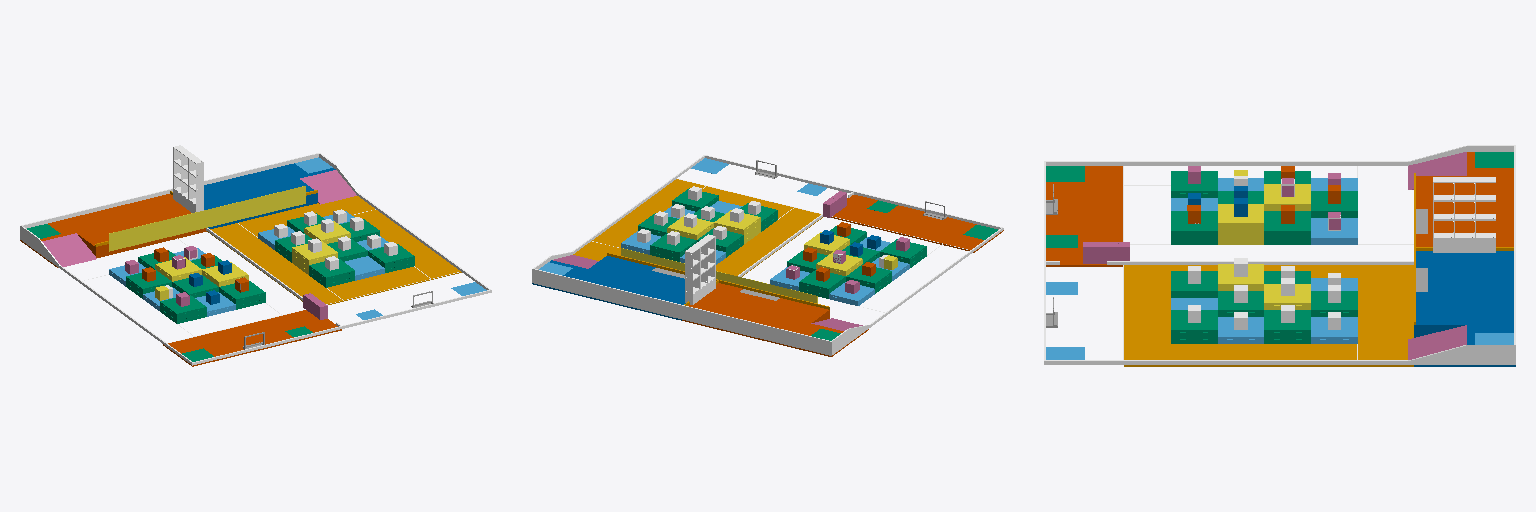
--- What the picture shows (computed from the rendered views, not written in the file) ---
The picture shows the robot from 3 angles, left to right: view 1: azimuth 30°, elevation 25°; view 2: azimuth 150°, elevation 25°; view 3: azimuth 270°, elevation 25°; orthographic projection.
Model zwei with 36 links and 35 joints (35 fixed), rooted at base_link, posed all joints at 0.
Links seen in each view (by area): view 1: Link16, Link18, Link2, Link5, Link11, Link13, Link4, Link3, Link6, Link1, Link23, Link9 (+3 smaller); view 2: Link18, Link2, Link16, Link5, Link13, Link4, Link3, Link1, Link23, Link11, Link9, Link10 (+4 smaller); view 3: Link16, Link2, Link18, Link4, Link13, Link1, Link5, Link3, Link23, Link6, Link10, Link9 (+5 smaller).
Link boxes in pixels (x1,y1,x2,y2): Link16: [207, 196, 461, 304]; Link18: [20, 145, 491, 365]; Link2: [126, 213, 414, 323]; Link5: [20, 194, 206, 267]; Link11: [109, 186, 305, 251]; Link13: [163, 310, 341, 366]; Link4: [204, 163, 335, 228]; Link3: [155, 221, 350, 286]; Link6: [42, 170, 356, 266]; Link1: [109, 211, 388, 316]; Link23: [274, 209, 397, 270]; Link9: [295, 157, 486, 319]; Link18: [532, 155, 1003, 355]; Link2: [638, 188, 926, 298]; Link16: [573, 179, 822, 276]; Link5: [682, 283, 868, 356]; Link13: [831, 195, 1003, 252]; Link4: [532, 256, 685, 320]; Link3: [667, 210, 862, 275]; Link1: [621, 201, 909, 305]; Link23: [637, 186, 760, 245]; Link11: [621, 248, 817, 303]; Link9: [539, 158, 826, 275]; Link10: [811, 200, 997, 340]; Link16: [1124, 265, 1413, 366]; Link2: [1171, 171, 1357, 343]; Link18: [1044, 145, 1515, 364]; Link4: [1414, 251, 1515, 366]; Link13: [1046, 166, 1122, 266]; Link1: [1171, 178, 1357, 343]; Link5: [1416, 152, 1513, 246]; Link3: [1218, 184, 1310, 309]; Link23: [1188, 258, 1340, 329]; Link6: [1408, 152, 1466, 359]; Link10: [1046, 152, 1513, 247]; Link9: [1046, 282, 1513, 359].
Bounding box of the posed robot: 12.15 × 12.1 × 2.47 m (x, y, z).
Meshes: 35 distinct files referenced, 31 mesh visuals loaded (27 binary STL, 4 Collada DAE); not drawn: 4 (reference not matched to a file when rendering).

The robot description file, URDF, robot "zwei":
<?xml version="1.0" encoding="utf-8"?>
<!-- This URDF was automatically created by SolidWorks to URDF Exporter! Originally created by Stephen Brawner ([email redacted]) 
     Commit Version: 1.6.0-1-g15f4949  Build Version: 1.6.7594.29634
     For more information, please see http://wiki.ros.org/sw_urdf_exporter -->
<robot
  name="zwei">
  <link
    name="base_link">
    <inertial>
      <origin
        xyz="6.025 7.59901863606395 0.159497471230316"
        rpy="0 0 0" />
      <mass
        value="32830.9811175371" />
      <inertia
        ixx="41297.6713371606"
        ixy="-2.50785933512626E-11"
        ixz="-7.99909194612046E-13"
        iyy="65334.3271755097"
        iyz="-266.198195272754"
        izz="105720.894307686" />
    </inertial>
    <visual>
      <origin
        xyz="0 0 0"
        rpy="0 0 0" />
      <!--<geometry>
        <mesh
          filename="package://zwei/meshes/base_link.STL" />
      </geometry>-->
      <!--<material
        name="">
        <color
          rgba="0.752941176470588 0.752941176470588 0.752941176470588 1" />
      </material>-->
    </visual>
    <collision>
      <origin
        xyz="0 0 0"
        rpy="0 0 0" />
      <!--<geometry>
        <mesh
          filename="package://zwei/meshes/base_link.STL" />
      </geometry>-->
    </collision>
  </link>
  <link
    name="Link1">
    <inertial>
      <origin
        xyz="3.025 0.0899299276190646 2.1"
        rpy="0 0 0" />
      <mass
        value="2300.00896" />
      <inertia
        ixx="283.290308175557"
        ixy="6.85401140947789E-15"
        ixz="1.6649606738741E-14"
        iyy="551.233941162667"
        iyz="3.39786615074972E-15"
        izz="283.290308175557" />
    </inertial>
    <visual>
      <origin
        xyz="0 0 0"
        rpy="0 0 0" />
      <geometry>
        <mesh
          filename="package://zwei/meshes/Link1.STL" />
      </geometry>
      <!--<material
        name="link1">
        <color
          rgba="0.16078431372549 0.32156862745098 0.0627450980392157 1" /> 
      </material>-->
    </visual>
    <collision>
      <origin
        xyz="0 0 0"
        rpy="0 0 0" />
      <geometry>
        <mesh
          filename="package://zwei/meshes/Link1.STL" />
      </geometry>
    </collision>
  </link>
  <joint
    name="ink1"
    type="fixed">
    <origin
      xyz="9.05 3.8 0.00980000000000023"
      rpy="1.5707963267949 0 3.14159265358979" />
    <parent
      link="base_link" />
    <child
      link="Link1" />
    <axis
      xyz="0 0 0" />
  </joint>
  <link
    name="Link2">
    <inertial>
      <origin
        xyz="4.225 0.189929927619065 1.6"
        rpy="0 0 0" />
      <mass
        value="6900.02688" />
      <inertia
        ixx="918.871193326671"
        ixy="-1.58382749771503E-14"
        ixz="-8.56900881089812E-15"
        iyy="1653.701823488"
        iyz="-3.38855738196597E-14"
        izz="918.87119332667" />
    </inertial>
    <visual>
      <origin
        xyz="0 0 0"
        rpy="0 0 0" />
      <geometry>
        <mesh
          filename="package://zwei/meshes/Link2.STL" />
      </geometry>
      <!--<material
        name="">
        <color
          rgba="0.164705882352941 0.443137254901961 0.219607843137255 1" />
      </material>-->
    </visual>
    <collision>
      <origin
        xyz="0 0 0"
        rpy="0 0 0" />
      <geometry>
        <mesh
          filename="package://zwei/meshes/Link2.STL" />
      </geometry>
    </collision>
  </link>
  <joint
    name="ink2"
    type="fixed">
    <origin
      xyz="10.25 3.8 0.00980000000000023"
      rpy="1.5707963267949 0 3.14159265358979" />
    <parent
      link="base_link" />
    <child
      link="Link2" />
    <axis
      xyz="0 0 0" />
  </joint>
  <link
    name="Link3">
    <inertial>
      <origin
        xyz="1.825 0.289929927619065 0.6"
        rpy="0 0 0" />
      <mass
        value="3450.01344" />
      <inertia
        ixx="516.935820663336"
        ixy="1.79481572017276E-15"
        ixz="4.28090451542323E-14"
        iyy="826.850911744001"
        iyz="-1.97300854240976E-14"
        izz="516.935820663336" />
    </inertial>
    <visual>
      <origin
        xyz="0 0 0"
        rpy="0 0 0" />
      <geometry>
        <mesh
          filename="package://zwei/meshes/Link3.STL" />
      </geometry>
      <!--<material
        name="">
        <color
          rgba="0.596078431372549 0.650980392156863 0.313725490196078 1" />
      </material>-->
    </visual>
    <collision>
      <origin
        xyz="0 0 0"
        rpy="0 0 0" />
      <geometry>
        <mesh
          filename="package://zwei/meshes/Link3.STL" />
      </geometry>
    </collision>
  </link>
  <joint
    name="ink3"
    type="fixed">
    <origin
      xyz="7.85 5 0.00980000000000031"
      rpy="1.5707963267949 0 3.14159265358979" />
    <parent
      link="base_link" />
    <child
      link="Link3" />
    <axis
      xyz="0 0 0" />
  </joint>
  
  <link
    name="Link4">
    <inertial>
      <origin
        xyz="-2.71653146810334 0.210989959593486 0.0575670380800792"
        rpy="0 0 0" />
      <mass
        value="6125.25" />
      <inertia
        ixx="3425.2331149175"
        ixy="-57.0341020647116"
        ixz="1249.75282895341"
        iyy="19504.160145407"
        iyz="-10.2293028728419"
        izz="16291.1884747545" />
    </inertial>
    <visual>
      <origin
        xyz="0 0 0"
        rpy="0 0 0" />
      <geometry>
        <mesh
          filename="package://zwei/meshes/Link4.STL" />
      </geometry>
      <!--<material
        name="">
        <color
          rgba="0.996078431372549 0.729411764705882 0.63921568627451 1" />
      </material>-->
    </visual>
    <collision>
      <origin
        xyz="0 0 0"
        rpy="0 0 0" />
      <geometry>
        <mesh
          filename="package://zwei/meshes/Link4.STL" />
      </geometry>
    </collision>
  </link>
  <joint
    name="ink4"
    type="fixed">
    <origin
      xyz="6.025 10.75 -0.0401999999999993"
      rpy="1.5707963267949 0 3.14159265358979" />
    <parent
      link="base_link" />
    <child
      link="Link4" />
    <axis
      xyz="0 0 0" />
  </joint>
  
  <link
    name="Link5">
    <inertial>
      <origin
        xyz="2.71653146810334 0.210989959593486 0.0575670380800783"
        rpy="0 0 0" />
      <mass
        value="6125.25" />
      <inertia
        ixx="3425.2331149175"
        ixy="57.0341020647116"
        ixz="-1249.75282895341"
        iyy="19504.160145407"
        iyz="-10.2293028728418"
        izz="16291.1884747545" />
    </inertial>
    <visual>
      <origin
        xyz="0 0 0"
        rpy="0 0 0" />
      <geometry>
        <mesh
          filename="package://zwei/meshes/Link5.STL" />
      </geometry>
      <!--<material
        name="">
        <color
          rgba="0.505882352941176 0.823529411764706 0.83921568627451 1" />
      </material>-->
    </visual>
    <collision>
      <origin
        xyz="0 0 0"
        rpy="0 0 0" />
      <geometry>
        <mesh
          filename="package://zwei/meshes/Link5.STL" />
      </geometry>
    </collision>
  </link>
  <joint
    name="ink5"
    type="fixed">
    <origin
      xyz="6.025 10.75 -0.0401999999999993"
      rpy="1.5707963267949 0 3.14159265358979" />
    <parent
      link="base_link" />
    <child
      link="Link5" />
    <axis
      xyz="0 0 0" />
  </joint>
  <link
    name="Link6">
    <inertial>
      <origin
        xyz="-4.525 0.123333333333334 -1"
        rpy="0 0 0" />
      <mass
        value="900" />
      <inertia
        ixx="120.5"
        ixy="-3.21502084214368E-14"
        ixz="-5.20417042793042E-15"
        iyy="281.25"
        iyz="15"
        izz="176.75" />
    </inertial>
    <visual>
      <origin
        xyz="0 0 0"
        rpy="0 0 0" />
      <geometry>
        <mesh
          filename="package://zwei/meshes/Link6.STL" />
      </geometry>
      <!--<material
        name="">
        <color
          rgba="0.752941176470588 0.741176470588235 0.713725490196078 1" />
      </material>-->
    </visual>
    <collision>
      <origin
        xyz="0 0 0"
        rpy="0 0 0" />
      <geometry>
        <mesh
          filename="package://zwei/meshes/Link6.STL" />
      </geometry>
    </collision>
  </link>
  <joint
    name="ink6"
    type="fixed">
    <origin
      xyz="10.55 9.3 0.00980000000000057"
      rpy="1.5707963267949 0 0" />
    <parent
      link="base_link" />
    <child
      link="Link6" />
    <axis
      xyz="0 0 0" />
  </joint>
  <link
    name="Link7">
    <inertial>
      <origin
        xyz="-1.775 -0.00990000000000002 8.88178419700125E-16"
        rpy="0 0 0" />
      <mass
        value="0.17999999999998" />
      <inertia
        ixx="0.00135000059999985"
        ixy="-1.37753244236987E-37"
        ixz="7.73252989416785E-19"
        iyy="0.0350999999999961"
        iyz="-8.27180612553027E-23"
        izz="0.0337500005999963" />
    </inertial>
    <visual>
      <origin
        xyz="0 0 0"
        rpy="0 0 0" />
      <geometry>
        <mesh
          filename="package://zwei/meshes/Link7.STL" />
      </geometry>
      <!--<material
        name="">
        <color
          rgba="1 1 0 1" />
      </material>-->
    </visual>
    <collision>
      <origin
        xyz="0 0 0"
        rpy="0 0 0" />
      <geometry>
        <mesh
          filename="package://zwei/meshes/Link7.STL" />
      </geometry>
    </collision>
  </link>
  <joint
    name="ink7"
    type="fixed">
    <origin
      xyz="4.25 9.65 0.409800000000001"
      rpy="1.5707963267949 0 3.14159265358979" />
    <parent
      link="base_link" />
    <child
      link="Link7" />
    <axis
      xyz="0 0 0" />
  </joint>
  <link
    name="Link8">
    <inertial>
      <origin
        xyz="-2.04979445341204E-14 0.0499999999999999 0.137990936555892"
        rpy="0 0 0" />
      <mass
        value="49.6499999999993" />
      <inertia
        ixx="0.247721073498422"
        ixy="4.37682485740497E-15"
        ixz="1.48671816970222E-14"
        iyy="309.047939823494"
        iyz="-3.24120087816394E-17"
        izz="308.882968749995" />
    </inertial>
    <visual>
      <origin
        xyz="0 0 0"
        rpy="0 0 0" />
      <geometry>
        <mesh
          filename="package://zwei/meshes/Link8.STL" />
      </geometry>
      <!--<material
        name="">
        <color
          rgba="0.392156862745098 0.243137254901961 0 1" />
      </material>-->
    </visual>
    <collision>
      <origin
        xyz="0 0 0"
        rpy="0 0 0" />
      <geometry>
        <mesh
          filename="package://zwei/meshes/Link8.STL" />
      </geometry>
    </collision>
  </link>
  <joint
    name="ink8"
    type="fixed">
    <origin
      xyz="6.025 9.45 0.399800000000001"
      rpy="1.5707963267949 0 3.14159265358979" />
    <parent
      link="base_link" />
    <child
      link="Link8" />
    <axis
      xyz="0 0 0" />
  </joint>
  <link
    name="Link9">
    <inertial>
      <origin
        xyz="0.993939393939435 -0.258384848484859 -6.85757575757604"
        rpy="0 0 0" />
      <mass
        value="0.527999999999978" />
      <inertia
        ixx="0.0401600017599982"
        ixy="1.76465197344646E-22"
        ixz="-2.56068314700523E-19"
        iyy="0.0803199999999963"
        iyz="8.82325986723231E-23"
        izz="0.0401600017599982" />
    </inertial>
    <visual>
      <origin
        xyz="0 0 0"
        rpy="0 0 0" />
      <geometry>
        <mesh
          filename="package://zwei/meshes/Link9.STL" />
      </geometry>
      <!--<material
        name="">
        <color
          rgba="0.874509803921569 0.133333333333333 0.133333333333333 1" />
      </material>-->
    </visual>
    <collision>
      <origin
        xyz="0 0 0"
        rpy="0 0 0" />
      <geometry>
        <mesh
          filename="package://zwei/meshes/Link9.STL" />
      </geometry>
    </collision>
  </link>
  <joint
    name="ink9"
    type="fixed">
    <origin
      xyz="11.55 11.5 0.409800000000001"
      rpy="1.5707963267949 0 3.14159265358979" />
    <parent
      link="base_link" />
    <child
      link="Link9" />
    <axis
      xyz="0 0 0" />
  </joint>
  <link
    name="Link10">
    <inertial>
      <origin
        xyz="-0.993939393939436 -0.258384848484859 -6.85757575757605"
        rpy="0 0 0" />
      <mass
        value="0.527999999999978" />
      <inertia
        ixx="0.0401600017599982"
        ixy="8.8232598672323E-23"
        ixz="5.26662047306559E-20"
        iyy="0.0803199999999964"
        iyz="4.59177480789956E-38"
        izz="0.0401600017599982" />
    </inertial>
    <visual>
      <origin
        xyz="0 0 0"
        rpy="0 0 0" />
      <geometry>
        <mesh
          filename="package://zwei/meshes/Link10.STL" />
      </geometry>
      <!--<material
        name="">
        <color
          rgba="0.196078431372549 0 1 1" />
      </material>-->
    </visual>
    <collision>
      <origin
        xyz="0 0 0"
        rpy="0 0 0" />
      <geometry>
        <mesh
          filename="package://zwei/meshes/Link10.STL" />
      </geometry>
    </collision>
  </link>
  <joint
    name="ink10"
    type="fixed">
    <origin
      xyz="0.500000000000001 11.5 0.409800000000001"
      rpy="1.5707963267949 0 3.14159265358979" />
    <parent
      link="base_link" />
    <child
      link="Link10" />
    <axis
      xyz="0 0 0" />
  </joint>
  <link
    name="Link11">
    <inertial>
      <origin
        xyz="1.77635683940025E-15 -0.00999999999999956 0.00499999999999989"
        rpy="0 0 0" />
      <mass
        value="55.9999999999988" />
      <inertia
        ixx="2.28713333333328"
        ixy="0"
        ixz="-3.34223389704858E-17"
        iyy="298.667133333327"
        iyz="1.65955212535108E-18"
        izz="300.953333333327" />
    </inertial>
    <visual>
      <origin
        xyz="0 0 0"
        rpy="0 0 0" />
      <geometry>
        <mesh
          filename="package://zwei/meshes/Link11.STL" />
      </geometry>
      <!--<material
        name="">
        <color
          rgba="1 1 1 0.35" />
      </material>-->
    </visual>
    <collision>
      <origin
        xyz="0 0 0"
        rpy="0 0 0" />
      <geometry>
        <mesh
          filename="package://zwei/meshes/Link11.STL" />
      </geometry>
    </collision>
  </link>
  <joint
    name="ink11"
    type="fixed">
    <origin
      xyz="6.025 9.44 0.4598"
      rpy="1.5707963267949 0 3.14159265358979" />
    <parent
      link="base_link" />
    <child
      link="Link11" />
    <axis
      xyz="0 0 0" />
  </joint>
  <link
    name="Link12">
    <inertial>
      <origin
        xyz="4.44089209850063E-16 0.015 0"
        rpy="0 0 0" />
      <mass
        value="622.6875" />
      <inertia
        ixx="218.200078125"
        ixy="-2.24820162486594E-16"
        ixz="2.67756708009307E-14"
        iyy="2133.12629882812"
        iyz="0"
        izz="1915.18567382812" />
    </inertial>
    <visual>
      <origin
        xyz="0 0 0"
        rpy="0 0 0" />
      <geometry>
        <mesh
          filename="package://zwei/meshes/Link12.STL" />
      </geometry>
      <!--<material
        name="">
        <color
          rgba="0.980392156862745 0.862745098039216 0.854901960784314 1" />
      </material>-->
    </visual>
    <collision>
      <origin
        xyz="0 0 0"
        rpy="0 0 0" />
      <geometry>
        <mesh
          filename="package://zwei/meshes/Link12.STL" />
      </geometry>
    </collision>
  </link>
  <joint
    name="ink12"
    type="fixed">
    <origin
      xyz="9.0625 0.975000000000001 -0.0401999999999999"
      rpy="1.5707963267949 0 3.14159265358979" />
    <parent
      link="base_link" />
    <child
      link="Link12" />
    <axis
      xyz="0 0 0" />
  </joint>
  <link
    name="Link13">
    <inertial>
      <origin
        xyz="-4.44089209850063E-16 0.015 0"
        rpy="0 0 0" />
      <mass
        value="622.6875" />
      <inertia
        ixx="218.200078125"
        ixy="2.24820162486594E-16"
        ixz="5.31179787655045E-14"
        iyy="2133.12629882812"
        iyz="0"
        izz="1915.18567382812" />
    </inertial>
    <visual>
      <origin
        xyz="0 0 0"
        rpy="0 0 0" />
      <geometry>
        <mesh
          filename="package://zwei/meshes/Link13.STL" />
      </geometry>
      <!--<material
        name="">
        <color
          rgba="0.501960784313725 0.780392156862745 0.886274509803922 1" />
      </material>-->



    </visual>
    <collision>
      <origin
        xyz="0 0 0"
        rpy="0 0 0" />
      <geometry>
        <mesh
          filename="package://zwei/meshes/Link13.STL" />
      </geometry>
    </collision>
  </link>
  <joint
    name="ink13"
    type="fixed">
    <origin
      xyz="2.9875 0.975000000000001 -0.0401999999999999"
      rpy="1.5707963267949 0 3.14159265358979" />
    <parent
      link="base_link" />
    <child
      link="Link13" />
    <axis
      xyz="0 0 0" />
  </joint>
  <link
    name="Link14">
    <inertial>
      <origin
        xyz="-7.52870263235695E-16 0.240006966611985 -8.88178419700125E-16"
        rpy="0 0 0" />
      <mass
        value="180.004750088092" />
      <inertia
        ixx="25.3508855513742"
        ixy="-3.23378061454737E-17"
        ixz="1.29896093881143E-15"
        iyy="22.9505541983194"
        iyz="4.82429167933145E-16"
        izz="5.10033137443016" />
    </inertial>
    <visual>
      <origin
        xyz="0 0 0"
        rpy="0 0 0" />
      <geometry>
        <mesh
          filename="package://zwei/meshes/Link14.STL" />
      </geometry>
      <!--<material
        name="">
        <color
          rgba="0.607843137254902 0.372549019607843 0 1" />
      </material>-->
    </visual>
    <collision>
      <origin
        xyz="0 0 0"
        rpy="0 0 0" />
      <geometry>
        <mesh
          filename="package://zwei/meshes/Link14.STL" />
      </geometry>
    </collision>
  </link>
  <joint
    name="ink14"
    type="fixed">
    <origin
      xyz="6.025 0.950000000000001 0.00980000000000006"
      rpy="1.5707963267949 0 3.14159265358979" />
    <parent
      link="base_link" />
    <child
      link="Link14" />
    <axis
      xyz="0 0 0" />
  </joint>
  <link
    name="Link15">
    <inertial>
      <origin
        xyz="3.425 0.139757217556369 0.0344546158415753"
        rpy="0 0 0" />
      <mass
        value="8.45683075417978" />
      <inertia
        ixx="0.239478557028983"
        ixy="5.93163905713724E-16"
        ixz="7.25348463254944E-17"
        iyy="0.929187431006892"
        iyz="0.00987857660056836"
        izz="1.11192107249195" />
    </inertial>
    <visual>
      <origin
        xyz="0 0 0"
        rpy="0 0 0" />
      <geometry>
        <mesh
          filename="package://zwei/meshes/Link15.STL" />
      </geometry>
      <!--<material
        name="">
        <color
          rgba="0.607843137254902 0.372549019607843 0 1" />
      </material>-->
    </visual>
    <collision>
      <origin
        xyz="0 0 0"
        rpy="0 0 0" />
      <geometry>
        <mesh
          filename="package://zwei/meshes/Link15.STL" />
      </geometry>
    </collision>
  </link>
  <joint
    name="ink15"
    type="fixed">
    <origin
      xyz="9.45 0.16 0.01"
      rpy="1.5707963267949 0 3.14159265358979" />
    <parent
      link="base_link" />
    <child
      link="Link15" />
    <axis
      xyz="0 0 0" />
  </joint>
  <link
    name="Link16">
    <inertial>
      <origin
        xyz="1.33226762955019E-15 0.015 -1.0547118733939E-15"
        rpy="0 0 0" />
      <mass
        value="2262.9375" />
      <inertia
        ixx="10467.028828125"
        ixy="8.99280649946375E-16"
        ixz="2.92266211232572E-13"
        iyy="17426.1509472656"
        iyz="0"
        izz="6960.06500976563" />
    </inertial>
    <visual>
      <origin
        xyz="0 0 0"
        rpy="0 0 0" />
      <geometry>
        <mesh
          filename="package://zwei/meshes/Link16.STL" />
      </geometry>
      <!--<material
        name="">
        <color
          rgba="0.925490196078431 0.635294117647059 0.592156862745098 1" />
      </material>-->
    </visual>
    <collision>
      <origin
        xyz="0 0 0"
        rpy="0 0 0" />
      <geometry>
        <mesh
          filename="package://zwei/meshes/Link16.STL" />
      </geometry>
    </collision>
  </link>
  <joint
    name="ink16"
    type="fixed">
    <origin
      xyz="9.0625 5.725 -0.0401999999999996"
      rpy="1.5707963267949 0 3.14159265358979" />
    <parent
      link="base_link" />
    <child
      link="Link16" />
    <axis
      xyz="0 0 0" />
  </joint>
  <link
    name="Link17">
    <inertial>
      <origin
        xyz="1.33226762955019E-15 0.015 -1.0547118733939E-15"
        rpy="0 0 0" />
      <mass
        value="2262.9375" />
      <inertia
        ixx="10467.028828125"
        ixy="8.99280649946375E-16"
        ixz="2.92266211232572E-13"
        iyy="17426.1509472656"
        iyz="0"
        izz="6960.06500976563" />
    </inertial>
    <visual>
      <origin
        xyz="0 0 0"
        rpy="0 0 0" />
      <geometry>
        <mesh
          filename="package://zwei/meshes/Link17.STL" />
      </geometry>
      <!--<material
        name="">
        <color
          rgba="0.501960784313725 0.749019607843137 0.819607843137255 1" />
      </material>-->
    </visual>
    <collision>
      <origin
        xyz="0 0 0"
        rpy="0 0 0" />
      <geometry>
        <mesh
          filename="package://zwei/meshes/Link17.STL" />
      </geometry>
    </collision>
  </link>
  <joint
    name="ink17"
    type="fixed">
    <origin
      xyz="2.9875 5.725 -0.0401999999999996"
      rpy="1.5707963267949 0 3.14159265358979" />
    <parent
      link="base_link" />
    <child
      link="Link17" />
    <axis
      xyz="0 0 0" />
  </joint>
  <link
    name="Link18">
    <inertial>
      <origin
        xyz="1.66558594613715E-14 -0.0099 1.67934782608699"
        rpy="0 0 0" />
      <mass
        value="0.13248" />
      <inertia
        ixx="0.0142290930130287"
        ixy="2.68703049839647E-21"
        ixz="-4.33116103491781E-16"
        iyy="0.323723828571425"
        iyz="2.76801097191775E-22"
        izz="0.309494736441596" />
    </inertial>
    <visual>
      <origin
        xyz="0 0 0"
        rpy="0 0 0" />
      <geometry>
        <mesh
          filename="package://zwei/meshes/Link18.STL" />
      </geometry>
      <material
        name="">
        <color
          rgba="1 1 1 1" />
      </material>
    </visual>
    <collision>
      <origin
        xyz="0 0 0"
        rpy="0 0 0" />
      <geometry>
        <mesh
          filename="package://zwei/meshes/Link18.STL" />
      </geometry>
    </collision>
  </link>
  <joint
    name="ink18"
    type="fixed">
    <origin
      xyz="6.025 1.97 0.00980000000000012"
      rpy="1.5707963267949 0 3.14159265358979" />
    <parent
      link="base_link" />
    <child
      link="Link18" />
    <axis
      xyz="0 0 0" />
  </joint>


  <link
    name="Link19">
    <inertial>
      <origin
        xyz="5.55111512312578E-17 0.175 0"
        rpy="0 0 0" />
      <mass
        value="42.875" />
      <inertia
        ixx="0.875364583333332"
        ixy="3.15517288222248E-17"
        ixz="4.33305012241074E-17"
        iyy="0.875364583333333"
        iyz="-3.52958403245416E-17"
        izz="0.875364583333332" />
    </inertial>
    <visual>
      <origin
        xyz="0 0 0"
        rpy="0 0 0" />

      <geometry>
        <mesh
          filename="package://zwei/meshes/fake3.dae"/>
      </geometry>

      <!--<material
        name="">
        <color
          rgba="1 1 1 1" />
      </material>-->
    </visual>
    <collision>
      <origin
        xyz="0 0 0"
        rpy="0 0 0" />

      <geometry>
        <mesh
          filename="package://zwei/meshes/Link19.STL"/>
      </geometry>

    </collision>
  </link>
  <joint
    name="fake"
    type="fixed">
    <!--xyz="1.625 5 0.3748"-->
    <origin
      xyz="1.625 5 0.3748"
      rpy="1.5707963267949 1.5707963267949 0" />
    <parent
      link="base_link" />
    <child
      link="Link19" />
    <axis
      xyz="0 0 0" />
  </joint>
  
  <link
    name="Link20">
    <inertial>
      <origin
        xyz="0.400000000000001 0.375 -0.800000000000001"
        rpy="0 0 0" />
      <mass
        value="128.625" />
      <inertia
        ixx="2.62609375"
        ixy="-3.11686943565236E-17"
        ixz="-3.1361082712215E-16"
        iyy="2.62609375"
        iyz="1.15695069265638E-16"
        izz="2.62609375" />
    </inertial>
    <visual>
      <origin
        xyz="0 0 0"
        rpy="0 0 0" />

      <geometry>
        <mesh
          filename="package://zwei/meshes/R2.dae" />
      </geometry>

      <!--<material
        name="">
        <color
          rgba="1 1 1 1" />
      </material>-->
    </visual>
    <collision>
      <origin
        xyz="0 0 0"
        rpy="0 0 0" />

      <geometry>
        <mesh
          filename="package://zwei/meshes/Link20.STL" />
      </geometry>

    </collision>
  </link>
  <joint
    name="R2"
    type="fixed">
    <origin
      xyz="3 3.8 0.1998"
      rpy="1.5707963267949 0 0" />
    <parent
      link="base_link" />
    <child
      link="Link20" />
    <axis
      xyz="0 0 0" />
  </joint>
  
  <link
    name="Link21">
    <inertial>
      <origin
        xyz="-1.5 0.175 0.299999999999999"
        rpy="0 0 0" />
      <mass
        value="171.5" />
      <inertia
        ixx="3.50145833333333"
        ixy="-7.90758937573781E-17"
        ixz="1.25676023540804E-16"
        iyy="3.50145833333333"
        iyz="-4.07553440426878E-17"
        izz="3.50145833333333" />
    </inertial>
    <visual>
      <origin
        xyz="0 0 0"
        rpy="0 0 0" />
      <geometry>
        <mesh
          filename="package://zwei/meshes/R1.dae" />
      </geometry>
      <!--<material
        name="">
        <color
          rgba="1 1 1 1" />
      </material>-->
    </visual>
    <collision>
      <origin
        xyz="0 0 0"
        rpy="0 0 0" />
      <geometry>
        <mesh
          filename="package://zwei/meshes/Link21.STL" />
      </geometry>
    </collision>
  </link>
  <joint
    name="R1"
    type="fixed">
    <origin
      xyz="1.8 6.2 0.7498"
      rpy="-1.5707963267949 0 3.14159265358979" />
    <parent
      link="base_link" />
    <child
      link="Link21" />
    <axis
      xyz="0 0 0" />
  </joint>

  <link
    name="Link22">
    <inertial>
      <origin
        xyz="0.9 0.115 -2.4"
        rpy="0 0 0" />
      <mass
        value="171.5" />
      <inertia
        ixx="3.50145833333333"
        ixy="-9.88445436611587E-17"
        ixz="3.45146365191931E-16"
        iyy="3.50145833333333"
        iyz="-4.04768811061255E-17"
        izz="3.50145833333333" />
    </inertial>
    <visual>
      <origin
        xyz="0 0 0"
        rpy="0 0 0" />
      <geometry>
        <mesh
          filename="package://zwei/meshes/R2kong.dae" />
      </geometry>

    </visual>
    <collision>
      <origin
        xyz="0 0 0"
        rpy="0 0 0" />
      <geometry>
        <mesh
          filename="package://zwei/meshes/Link22.STL" />
      </geometry>
    </collision>
  </link>
  <joint
    name="empytblue"
    type="fixed">
    <origin
      xyz="1.8 3.8 0.4098"
      rpy="1.5707963267949 0 0" />
    <parent
      link="base_link" />
    <child
      link="Link22" />
    <axis
      xyz="0 0 0" />
  </joint>

  <link
    name="Link23">
    <inertial>
      <origin
        xyz="1.2 0.146818181818182 1.96363636363637"
        rpy="0 0 0" />
      <mass
        value="471.625" />
      <inertia
        ixx="9.62901041666666"
        ixy="1.51929230420611E-16"
        ixz="5.15436284377091E-16"
        iyy="9.62901041666666"
        iyz="1.62769866371021E-16"
        izz="9.62901041666666" />
    </inertial>
    <visual>
      <origin
        xyz="0 0 0"
        rpy="0 0 0" />
      <geometry>
        <mesh
          filename="package://zwei/meshes/Link23.STL" />
      </geometry>
      <material
        name="">
        <color
          rgba="1 1 1 1" />
      </material>
    </visual>
    <collision>
      <origin
        xyz="0 0 0"
        rpy="0 0 0" />
      <geometry>
        <mesh
          filename="package://zwei/meshes/Link23.STL" />
      </geometry>
    </collision>
  </link>
  <joint
    name="red"
    type="fixed">
    <origin
      xyz="10.25 3.8 0.4098"
      rpy="1.5707963267949 0 3.14159265358979" />
    <parent
      link="base_link" />
    <child
      link="Link23" />
    <axis
      xyz="0 0 0" />
  </joint>

  <link
    name="Link25">
    <inertial>
      <origin
        xyz="0 0.165 0"
        rpy="0 0 0" />
      <mass
        value="42.8749999999999" />
      <inertia
        ixx="0.875364583333331"
        ixy="2.08253553291014E-17"
        ixz="2.08253553291015E-17"
        iyy="0.87536458333333"
        iyz="3.98899663300867E-17"
        izz="0.87536458333333" />
    </inertial>
    <visual>
      <origin
        xyz="0 0 0"
        rpy="0 0 0" />
      <geometry>
        <mesh
          filename="package://zwei/meshes/Link25.STL" />
      </geometry>
      <material
        name="">
        <color
          rgba="1 1 1 1" />
      </material>
    </visual>
    <collision>
      <origin
        xyz="0 0 0"
        rpy="0 0 0" />
      <geometry>
        <mesh
          filename="package://zwei/meshes/Link25.STL" />
      </geometry>
    </collision>
  </link>
  <joint
    name="25"
    type="fixed">
    <origin
      xyz="1.8 3.8 0.4098"
      rpy="1.5707963267949 0 0" />
    <parent
      link="base_link" />
    <child
      link="Link25" />
    <axis
      xyz="0 0 0" />
  </joint>
  <link
    name="Link26">
    <inertial>
      <origin
        xyz="0 0.165 -4.44089209850063E-16"
        rpy="0 0 0" />
      <mass
        value="42.875" />
      <inertia
        ixx="0.875364583333331"
        ixy="5.86914776038772E-19"
        ixz="-2.01311768181315E-16"
        iyy="0.875364583333331"
        iyz="-5.86914776038792E-19"
        izz="0.875364583333332" />
    </inertial>
    <visual>
      <origin
        xyz="0 0 0"
        rpy="0 0 0" />
      <geometry>
        <mesh
          filename="package://zwei/meshes/Link26.STL" />
      </geometry>
      <material
        name="">
        <color
          rgba="1 1 1 1" />
      </material>
    </visual>
    <collision>
      <origin
        xyz="0 0 0"
        rpy="0 0 0" />
      <geometry>
        <mesh
          filename="package://zwei/meshes/Link26.STL" />
      </geometry>
    </collision>
  </link>
  <joint
    name="26"
    type="fixed">
    <origin
      xyz="3 3.8 0.2098"
      rpy="1.5707963267949 0 0" />
    <parent
      link="base_link" />
    <child
      link="Link26" />
    <axis
      xyz="0 0 0" />
  </joint>
  <link
    name="Link27">
    <inertial>
      <origin
        xyz="0 0.175 0"
        rpy="0 0 0" />
      <mass
        value="42.8749999999999" />
      <inertia
        ixx="0.875364583333331"
        ixy="4.60222138176646E-17"
        ixz="4.61436444609835E-18"
        iyy="0.875364583333331"
        iyz="-5.86914776038796E-19"
        izz="0.875364583333331" />
    </inertial>
    <visual>
      <origin
        xyz="0 0 0"
        rpy="0 0 0" />
      <geometry>
        <mesh
          filename="package://zwei/meshes/Link27.STL" />
      </geometry>
      <material
        name="">
        <color
          rgba="1 1 1 1" />
      </material>
    </visual>
    <collision>
      <origin
        xyz="0 0 0"
        rpy="0 0 0" />
      <geometry>
        <mesh
          filename="package://zwei/meshes/Link27.STL" />
      </geometry>
    </collision>
  </link>
  <joint
    name="27"
    type="fixed">
    <origin
      xyz="4.2 3.8 0.399800000000001"
      rpy="1.5707963267949 0 0" />
    <parent
      link="base_link" />
    <child
      link="Link27" />
    <axis
      xyz="0 0 0" />
  </joint>
  <link
    name="Link28">
    <inertial>
      <origin
        xyz="0 0.165 0"
        rpy="0 0 0" />
      <mass
        value="42.875" />
      <inertia
        ixx="0.875364583333332"
        ixy="3.15517288222248E-17"
        ixz="4.33305012241074E-17"
        iyy="0.875364583333333"
        iyz="-3.52958403245416E-17"
        izz="0.875364583333332" />
    </inertial>
    <visual>
      <origin
        xyz="0 0 0"
        rpy="0 0 0" />
      <geometry>
        <mesh
          filename="package://zwei/meshes/Link28.STL" />
      </geometry>
      <material
        name="">
        <color
          rgba="1 1 1 1" />
      </material>
    </visual>
    <collision>
      <origin
        xyz="0 0 0"
        rpy="0 0 0" />
      <geometry>
        <mesh
          filename="package://zwei/meshes/Link28.STL" />
      </geometry>
    </collision>
  </link>
  <joint
    name="28"
    type="fixed">
    <origin
      xyz="1.635 5 0.3748"
      rpy="1.5707963267949 1.5707963267949 0" />
    <parent
      link="base_link" />
    <child
      link="Link28" />
    <axis
      xyz="0 0 0" />
  </joint>
  <link
    name="Link29">
    <inertial>
      <origin
        xyz="1.11022302462516E-16 0.165 1.11022302462516E-16"
        rpy="0 0 0" />
      <mass
        value="42.875" />
      <inertia
        ixx="0.875364583333333"
        ixy="1.81208838190243E-18"
        ixz="8.00444944262377E-17"
        iyy="0.875364583333333"
        iyz="2.01902317758063E-16"
        izz="0.875364583333334" />
    </inertial>
    <visual>
      <origin
        xyz="0 0 0"
        rpy="0 0 0" />
      <geometry>
        <mesh
          filename="package://zwei/meshes/Link29.STL" />
      </geometry>
      <material
        name="">
        <color
          rgba="1 1 1 1" />
      </material>
    </visual>
    <collision>
      <origin
        xyz="0 0 0"
        rpy="0 0 0" />
      <geometry>
        <mesh
          filename="package://zwei/meshes/Link29.STL" />
      </geometry>
    </collision>
  </link>
  <joint
    name="29"
    type="fixed">
    <origin
      xyz="3.165 5 0.5748"
      rpy="1.5707963267949 -1.5707963267949 0" />
    <parent
      link="base_link" />
    <child
      link="Link29" />
    <axis
      xyz="0 0 0" />
  </joint>
  <link
    name="Link30">
    <inertial>
      <origin
        xyz="1.11022302462516E-16 0.175 1.11022302462516E-16"
        rpy="0 0 0" />
      <mass
        value="42.875" />
      <inertia
        ixx="0.875364583333333"
        ixy="2.99435207506599E-17"
        ixz="-3.62374896154395E-17"
        iyy="0.875364583333333"
        iyz="8.96032588172275E-17"
        izz="0.875364583333332" />
    </inertial>
    <visual>
      <origin
        xyz="0 0 0"
        rpy="0 0 0" />
      <geometry>
        <mesh
          filename="package://zwei/meshes/Link30.STL" />
      </geometry>
      <material
        name="">
        <color
          rgba="1 1 1 1" />
      </material>
    </visual>
    <collision>
      <origin
        xyz="0 0 0"
        rpy="0 0 0" />
      <geometry>
        <mesh
          filename="package://zwei/meshes/Link30.STL" />
      </geometry>
    </collision>
  </link>
  <joint
    name="30"
    type="fixed">
    <origin
      xyz="4.025 5 0.7748"
      rpy="1.5707963267949 1.5707963267949 0" />
    <parent
      link="base_link" />
    <child
      link="Link30" />
    <axis
      xyz="0 0 0" />
  </joint>
  <link
    name="Link31">
    <inertial>
      <origin
        xyz="0 0.165 8.32667268468867E-17"
        rpy="0 0 0" />
      <mass
        value="42.875" />
      <inertia
        ixx="0.875364583333332"
        ixy="5.86914776038744E-19"
        ixz="2.17968004756486E-17"
        iyy="0.875364583333331"
        iyz="-5.86914776038851E-19"
        izz="0.875364583333331" />
    </inertial>
    <visual>
      <origin
        xyz="0 0 0"
        rpy="0 0 0" />
      <geometry>
        <mesh
          filename="package://zwei/meshes/Link31.STL" />
      </geometry>
      <material
        name="">
        <color
          rgba="1 1 1 1" />
      </material>
    </visual>
    <collision>
      <origin
        xyz="0 0 0"
        rpy="0 0 0" />
      <geometry>
        <mesh
          filename="package://zwei/meshes/Link31.STL" />
      </geometry>
    </collision>
  </link>
  <joint
    name="31"
    type="fixed">
    <origin
      xyz="1.8 6.2 0.7398"
      rpy="-1.5707963267949 0 3.14159265358979" />
    <parent
      link="base_link" />
    <child
      link="Link31" />
    <axis
      xyz="0 0 0" />
  </joint>
  <link
    name="Link32">
    <inertial>
      <origin
        xyz="-4.44089209850063E-16 0.175 1.11022302462516E-16"
        rpy="0 0 0" />
      <mass
        value="42.875" />
      <inertia
        ixx="0.875364583333333"
        ixy="-2.46099437125244E-17"
        ixz="-1.23616394898107E-16"
        iyy="0.875364583333333"
        iyz="8.03668474362121E-17"
        izz="0.875364583333333" />
    </inertial>
    <visual>
      <origin
        xyz="0 0 0"
        rpy="0 0 0" />
      <geometry>
        <mesh
          filename="package://zwei/meshes/Link32.STL" />
      </geometry>
      <material
        name="">
        <color
          rgba="1 1 1 1" />
      </material>
    </visual>
    <collision>
      <origin
        xyz="0 0 0"
        rpy="0 0 0" />
      <geometry>
        <mesh
          filename="package://zwei/meshes/Link32.STL" />
      </geometry>
    </collision>
  </link>
  <joint
    name="32"
    type="fixed">
    <origin
      xyz="3 6.2 0.9498"
      rpy="-1.5707963267949 0 3.14159265358979" />
    <parent
      link="base_link" />
    <child
      link="Link32" />
    <axis
      xyz="0 0 0" />
  </joint>
  <link
    name="Link33">
    <inertial>
      <origin
        xyz="0 0.175 8.32667268468867E-17"
        rpy="0 0 0" />
      <mass
        value="42.875" />
      <inertia
        ixx="0.875364583333333"
        ixy="7.6323204737287E-18"
        ixz="2.35643952628183E-18"
        iyy="0.875364583333333"
        iyz="3.6920519972462E-17"
        izz="0.875364583333333" />
    </inertial>
    <visual>
      <origin
        xyz="0 0 0"
        rpy="0 0 0" />
      <geometry>
        <mesh
          filename="package://zwei/meshes/Link33.STL" />
      </geometry>
      <material
        name="">
        <color
          rgba="1 1 1 1" />
      </material>
    </visual>
    <collision>
      <origin
        xyz="0 0 0"
        rpy="0 0 0" />
      <geometry>
        <mesh
          filename="package://zwei/meshes/Link33.STL" />
      </geometry>
    </collision>
  </link>
  <joint
    name="33"
    type="fixed">
    <origin
      xyz="4.375 6.2 0.5748"
      rpy="1.5707963267949 -1.5707963267949 0" />
    <parent
      link="base_link" />
    <child
      link="Link33" />
    <axis
      xyz="0 0 0" />
  </joint>
  <link
    name="Link34">
    <inertial>
      <origin
        xyz="0 0.175 0"
        rpy="0 0 0" />
      <mass
        value="42.875" />
      <inertia
        ixx="0.875364583333332"
        ixy="-1.46931078415236E-17"
        ixz="1.38349979620737E-16"
        iyy="0.875364583333331"
        iyz="1.9651525777024E-17"
        izz="0.875364583333331" />
    </inertial>
    <visual>
      <origin
        xyz="0 0 0"
        rpy="0 0 0" />
      <geometry>
        <mesh
          filename="package://zwei/meshes/Link34.STL" />
      </geometry>
      <material
        name="">
        <color
          rgba="1 1 1 1" />
      </material>
    </visual>
    <collision>
      <origin
        xyz="0 0 0"
        rpy="0 0 0" />
      <geometry>
        <mesh
          filename="package://zwei/meshes/Link34.STL" />
      </geometry>
    </collision>
  </link>
  <joint
    name="34"
    type="fixed">
    <origin
      xyz="1.8 7.4 0.199800000000001"
      rpy="1.5707963267949 0 0" />
    <parent
      link="base_link" />
    <child
      link="Link34" />
    <axis
      xyz="0 0 0" />
  </joint>
  <link
    name="Link35">
    <inertial>
      <origin
        xyz="-1.11022302462516E-16 0.175 0"
        rpy="0 0 0" />
      <mass
        value="42.875" />
      <inertia
        ixx="0.875364583333333"
        ixy="1.18052701877353E-16"
        ixz="-3.83989045164059E-17"
        iyy="0.875364583333333"
        iyz="-7.15730675387921E-17"
        izz="0.875364583333334" />
    </inertial>
    <visual>
      <origin
        xyz="0 0 0"
        rpy="0 0 0" />
      <geometry>
        <mesh
          filename="package://zwei/meshes/Link35.STL" />
      </geometry>
      <material
        name="">
        <color
          rgba="1 1 1 1" />
      </material>
    </visual>
    <collision>
      <origin
        xyz="0 0 0"
        rpy="0 0 0" />
      <geometry>
        <mesh
          filename="package://zwei/meshes/Link35.STL" />
      </geometry>
    </collision>
  </link>
  <joint
    name="35"
    type="fixed">
    <origin
      xyz="2.825 7.4 0.5748"
      rpy="1.5707963267949 1.5707963267949 0" />
    <parent
      link="base_link" />
    <child
      link="Link35" />
    <axis
      xyz="0 0 0" />
  </joint>
  <link
    name="Link36">
    <inertial>
      <origin
        xyz="0 0.175 0"
        rpy="0 0 0" />
      <mass
        value="42.875" />
      <inertia
        ixx="0.875364583333333"
        ixy="-8.03668474362122E-17"
        ixz="-6.2354635343986E-17"
        iyy="0.875364583333334"
        iyz="1.96515257770239E-17"
        izz="0.875364583333334" />
    </inertial>
    <visual>
      <origin
        xyz="0 0 0"
        rpy="0 0 0" />
      <geometry>
        <mesh
          filename="package://zwei/meshes/Link36.STL" />
      </geometry>
      <material
        name="">
        <color
          rgba="1 1 1 1" />
      </material>
    </visual>
    <collision>
      <origin
        xyz="0 0 0"
        rpy="0 0 0" />
      <geometry>
        <mesh
          filename="package://zwei/meshes/Link36.STL" />
      </geometry>
    </collision>
  </link>
  <joint
    name="36"
    type="fixed">
    <origin
      xyz="4.2 7.4 0.549800000000001"
      rpy="-1.5707963267949 0 3.14159265358979" />
    <parent
      link="base_link" />
    <child
      link="Link36" />
    <axis
      xyz="0 0 0" />
  </joint>


  <!--<gazebo reference="base_link">
  <material>Gazebo/WoodFloor</material>
  </gazebo>
  <gazebo reference="Link1">
  <material>Gazebo/Green</material>
  </gazebo>
  <gazebo reference="Link2">
  <material>Gazebo/GreenGlow</material>
  </gazebo>
  <gazebo reference="Link3">
  <material>Gazebo/DarkYellow</material>
  </gazebo>
  <gazebo reference="Link4">
  <material>Gazebo/Orange</material>
  </gazebo>
  <gazebo reference="Link5">
  <material>Gazebo/Turquoise</material>
  </gazebo>
  <gazebo reference="Link6">
  <material>Gazebo/Grey</material>
  </gazebo>
  <gazebo reference="Link7">
  <material>Gazebo/Yellow</material>
  </gazebo>
  <gazebo reference="Link8">
  <material>Gazebo/WoodPallet</material>
  </gazebo>
  <gazebo reference="Link9">
  <material>Gazebo/Red</material>
  </gazebo>
  <gazebo reference="Link10">
  <material>Gazebo/Blue</material>
  </gazebo>
  <gazebo reference="Link11">
  <material>Gazebo/White</material>
  </gazebo>
  <gazebo reference="Link12">
  <material>Gazebo/Pioneer2Body</material>
  </gazebo>
  <gazebo reference="Link13">
  <material>Gazebo/Turquoise</material>
  </gazebo>
  <gazebo reference="Link14">
  <material>Gazebo/WoodPallet</material>
  </gazebo>
  <gazebo reference="Link15">
  <material>Gazebo/WoodPallet</material>
  </gazebo>
  <gazebo reference="Link16">
  <material>Gazebo/Orange</material>
  </gazebo>
  <gazebo reference="Link17">
  <material>Gazebo/Turquoise</material>
  </gazebo>
  <gazebo reference="Link18">
  <material>Gazebo/WoodPallet</material>
  </gazebo>-->

  <gazebo reference="base_link">
  <material>Gazebo/WoodFloor</material>
  </gazebo>
  <gazebo reference="Link1">
  <material>Gazebo/Grass</material>
  </gazebo>
  <gazebo reference="Link2">
  <material>Gazebo/Green</material>
  </gazebo>
  <gazebo reference="Link3">
  <material>Gazebo/DarkYellow</material>
  </gazebo>
  <gazebo reference="Link4">
  <material>Gazebo/Orange</material>
  </gazebo>
  <gazebo reference="Link5">
  <material>Gazebo/Turquoise</material>
  </gazebo>
  <gazebo reference="Link6">
  <material>Gazebo/Grey</material>
  </gazebo>
  <gazebo reference="Link7">
  <material>Gazebo/ZincYellow</material>
  </gazebo>
  <gazebo reference="Link8">
  <material>Gazebo/WoodPallet</material>
  </gazebo>
  <gazebo reference="Link9">
  <material>Gazebo/Red</material>
  </gazebo>
  <gazebo reference="Link10">
  <material>Gazebo/Blue</material>
  </gazebo>
  <gazebo reference="Link11">
  <material>Gazebo/GreyTransparent</material>
  </gazebo>
  <gazebo reference="Link12">
  <material>Gazebo/PaintedWall</material>
  </gazebo>
  <gazebo reference="Link13">
  <material>Gazebo/Turquoise</material>
  </gazebo>
  <gazebo reference="Link14">
  <material>Gazebo/WoodPallet</material>
  </gazebo>
  <gazebo reference="Link15">
  <material>Gazebo/WoodPallet</material>
  </gazebo>
  <gazebo reference="Link16">
  <material>Gazebo/Orange</material>
  </gazebo>
  <gazebo reference="Link17">
  <material>Gazebo/Turquoise</material>
  </gazebo>
  <gazebo reference="Link18">
  <material>Gazebo/WoodPallet</material>
  </gazebo>

</robot>
